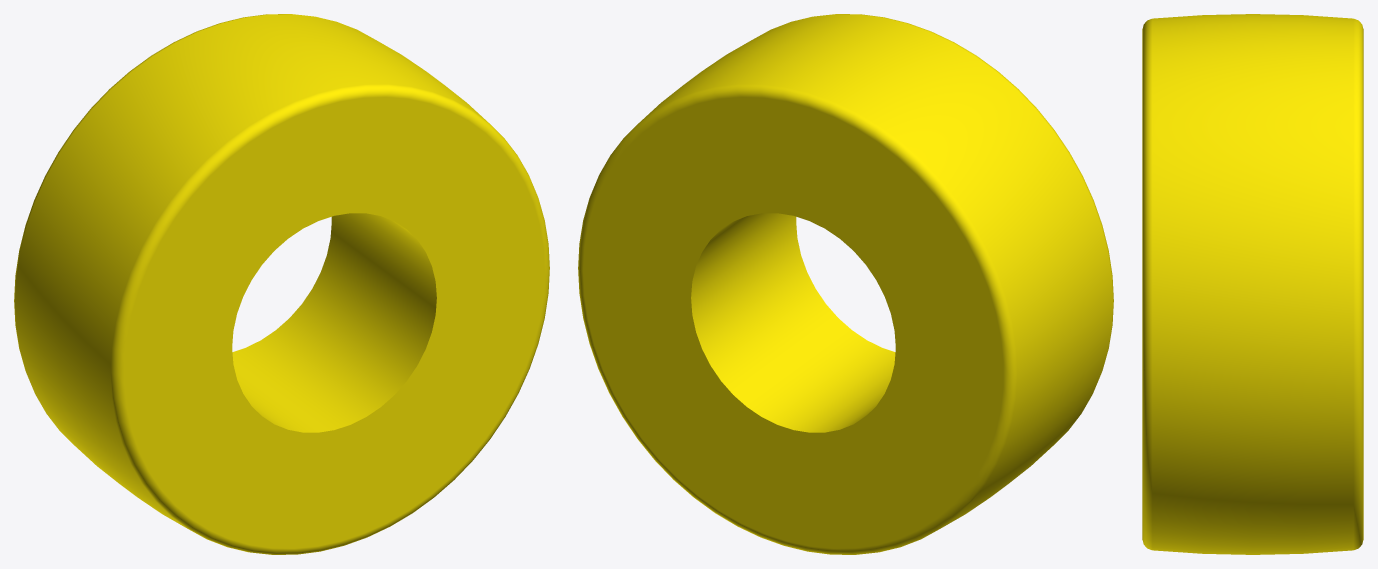
Rendered from argo_wheel.dae.
3 renders of one model, left to right at view 1: azimuth 30°, elevation 25°; view 2: azimuth 150°, elevation 25°; view 3: azimuth 270°, elevation 25°, orthographic. The views are drawn at different scales.
Parts seen in each view (by area): view 1: Antrieb EBM Papst Argodrive Standard A4-K1-100-300 Rad; view 2: Antrieb EBM Papst Argodrive Standard A4-K1-100-300 Rad; view 3: Antrieb EBM Papst Argodrive Standard A4-K1-100-300 Rad.
Part boxes in pixels (left/top/right/bottom): Antrieb EBM Papst Argodrive Standard A4-K1-100-300 Rad: left=14, top=14, right=549, bottom=554; Antrieb EBM Papst Argodrive Standard A4-K1-100-300 Rad: left=578, top=14, right=1113, bottom=554; Antrieb EBM Papst Argodrive Standard A4-K1-100-300 Rad: left=1142, top=14, right=1363, bottom=554.
Size of the model in its own units: 0.98 by 0.4 by 0.9786.
